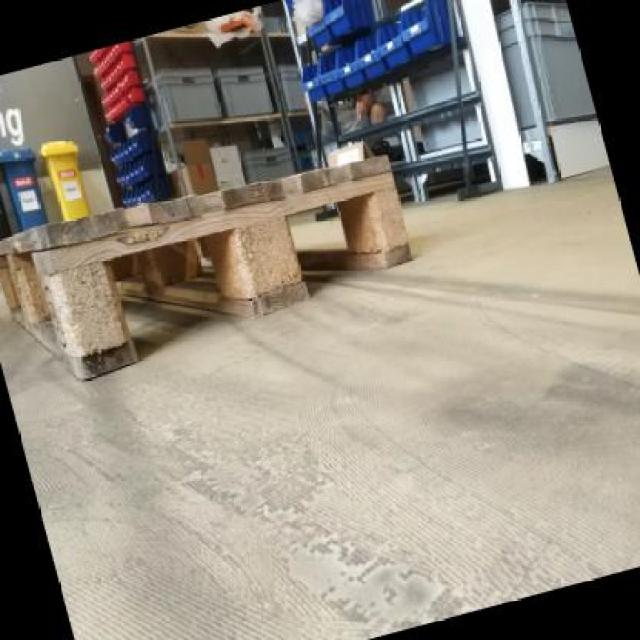block: (37, 226, 148, 375), (224, 195, 318, 315), (354, 167, 419, 272)
front: (30, 150, 428, 382)
